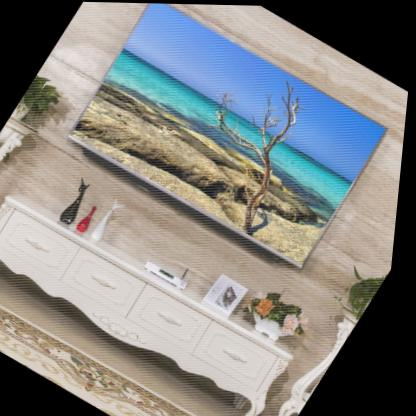TV stand: (0, 176, 324, 416)
